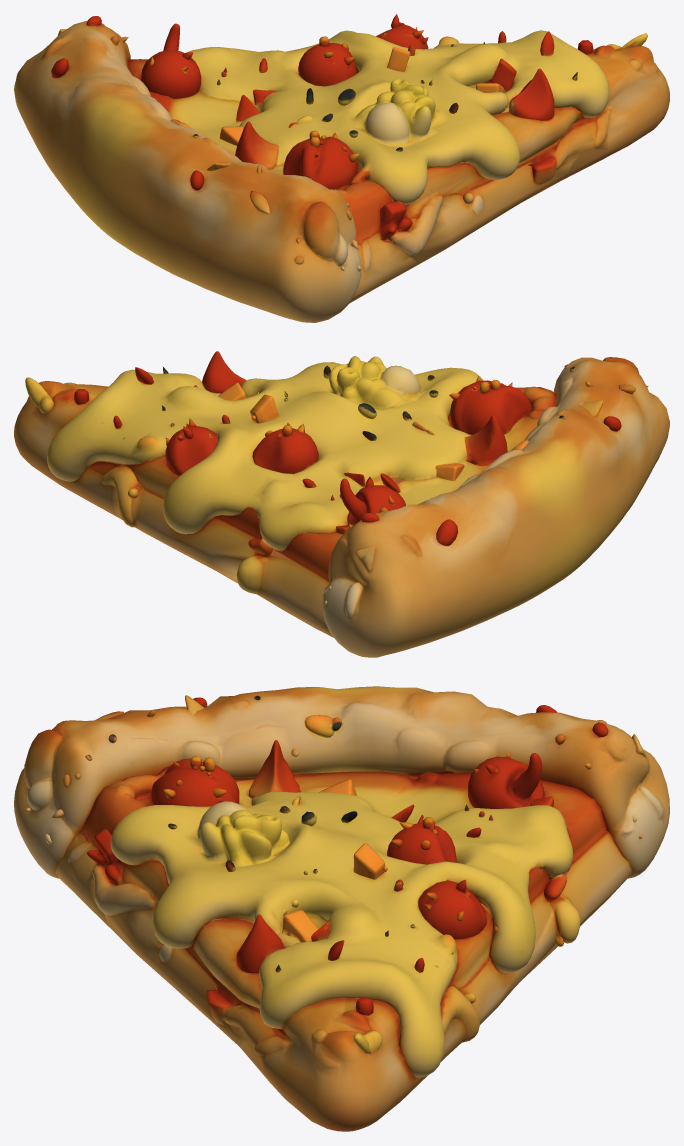
File: pizza.glb
3 renders of one model, top to bottom at view 1: azimuth 30°, elevation 25°; view 2: azimuth 150°, elevation 25°; view 3: azimuth 270°, elevation 25°, orthographic. The views are drawn at different scales.
Parts seen in each view (by area): view 1: tripo_node_a748555f-a0f5-4d20-8ce9-135e7b60c9d1; view 2: tripo_node_a748555f-a0f5-4d20-8ce9-135e7b60c9d1; view 3: tripo_node_a748555f-a0f5-4d20-8ce9-135e7b60c9d1.
Part boxes in pixels (left/top/right/bottom): tripo_node_a748555f-a0f5-4d20-8ce9-135e7b60c9d1: left=14, top=14, right=669, bottom=322; tripo_node_a748555f-a0f5-4d20-8ce9-135e7b60c9d1: left=14, top=351, right=669, bottom=657; tripo_node_a748555f-a0f5-4d20-8ce9-135e7b60c9d1: left=14, top=686, right=669, bottom=1131.
Size of the model in its own units: 0.9995 by 0.2437 by 0.8608.
Materials: 1 (1 with a texture image).
